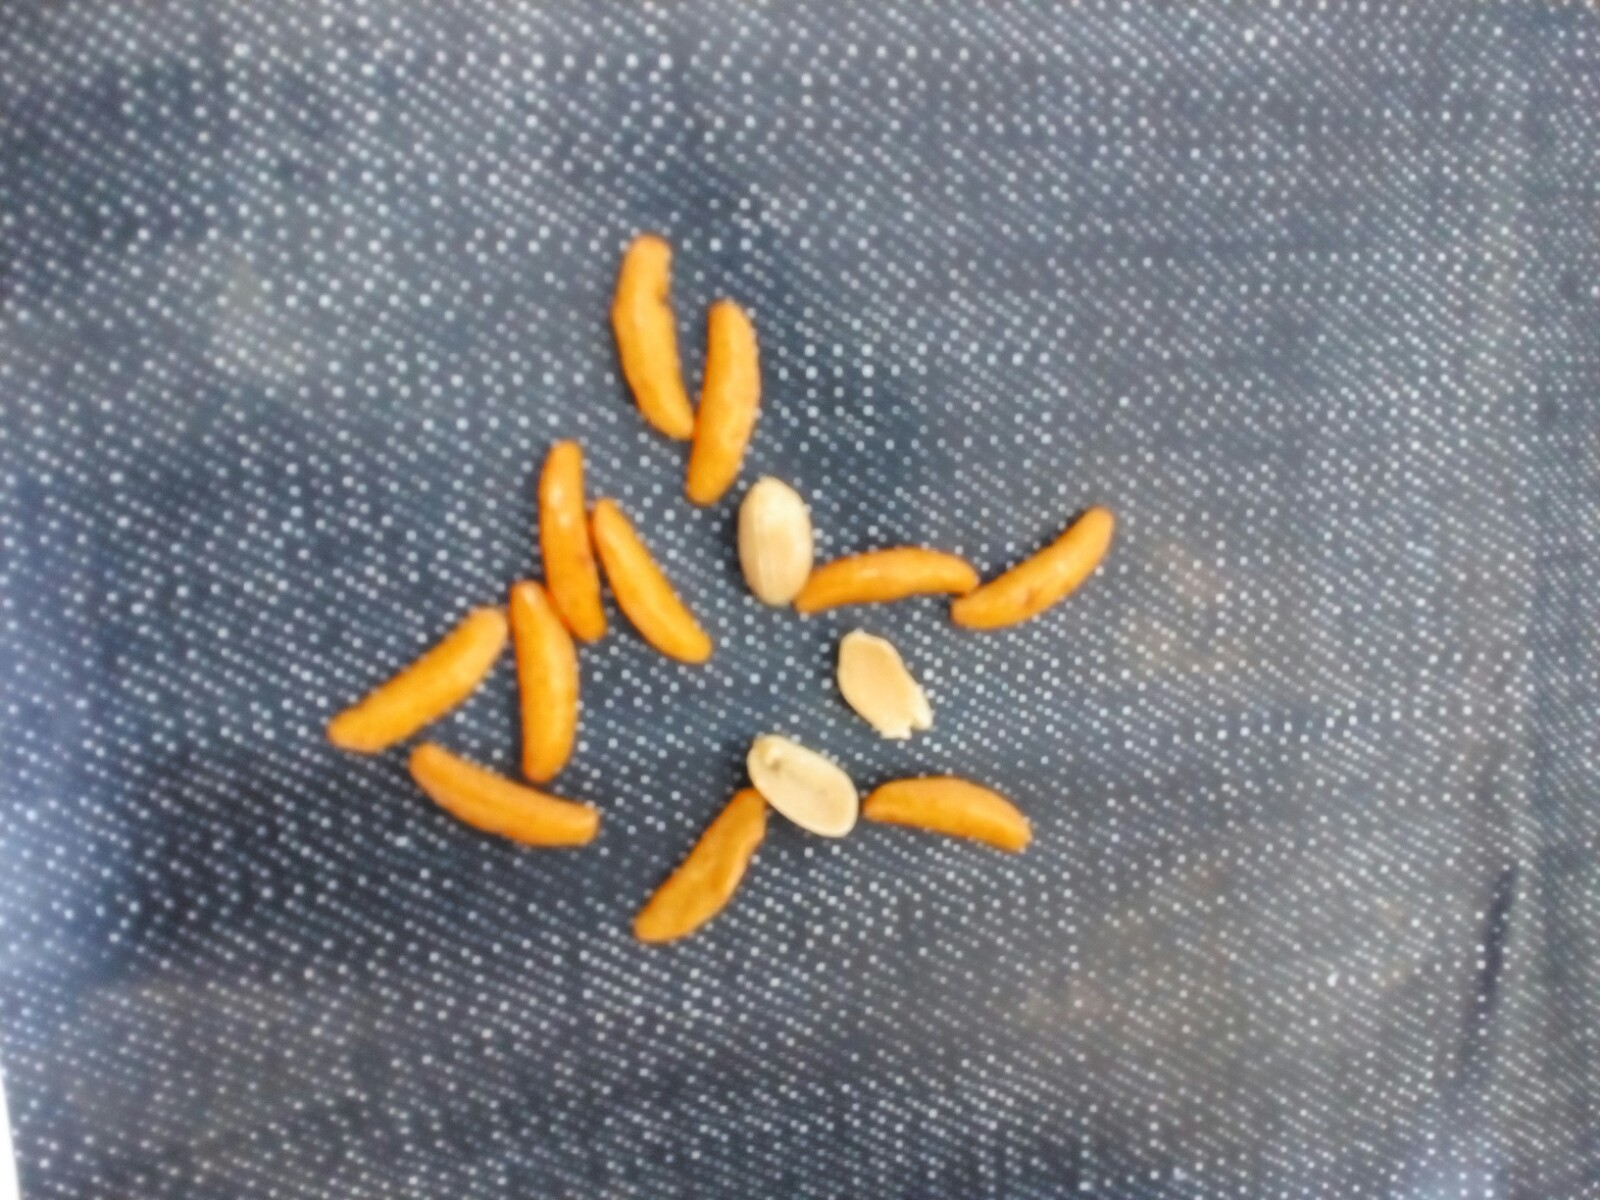peanut: (738, 729, 864, 841), (829, 621, 941, 746), (724, 466, 816, 608)
